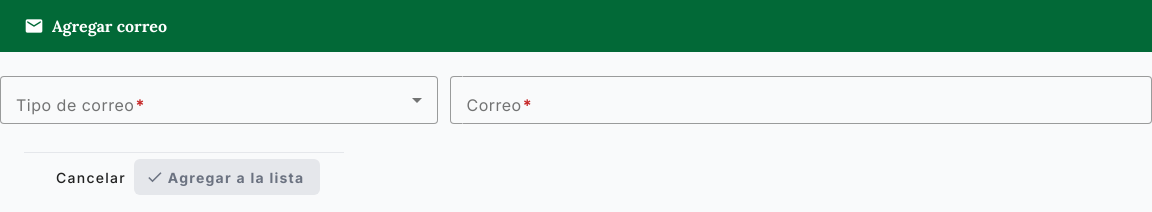
Test: ModalCorreoComponent › debe mostrar el error de dominio institucional en el formulario
Type "usuario@gmail.com" into the field named "correoVal".
click(801, 100); type("usuario@gmail.com")  # box [466, 88, 1136, 112]
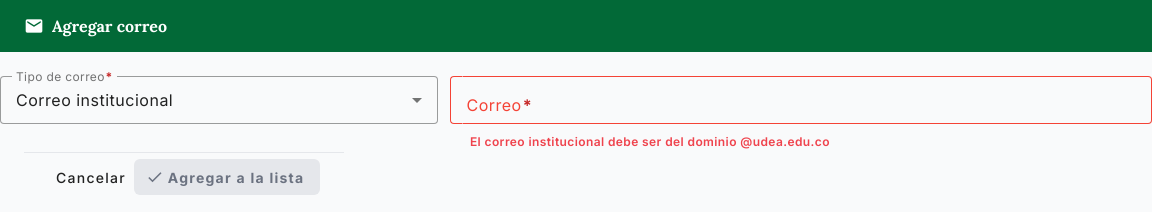
Expected: the text "El correo institucional debe ser del dominio @udea.edu.co" is shown, [466, 134, 830, 149]
